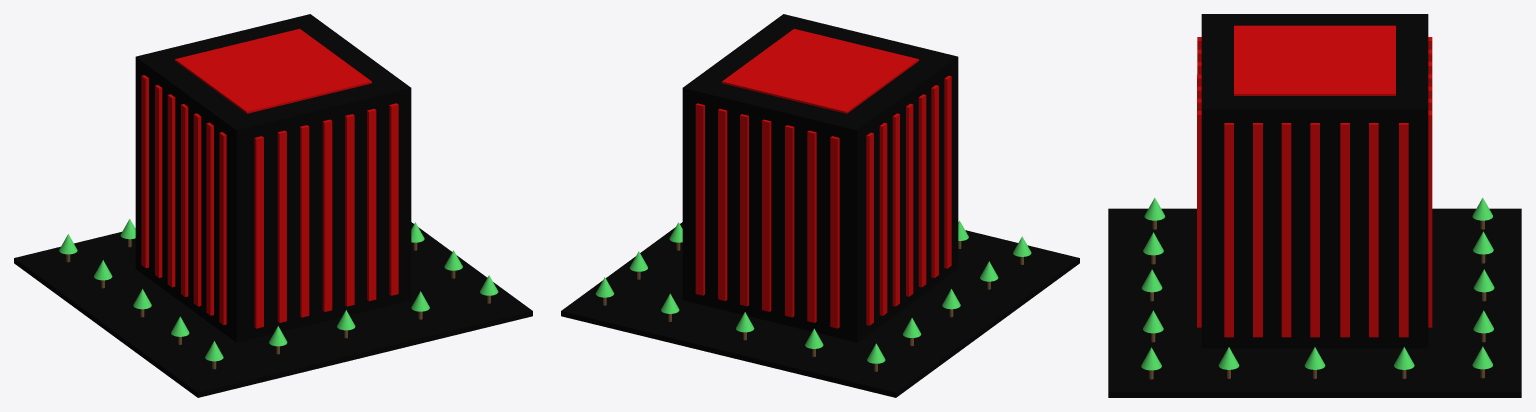
The model's file is datacenter_red.glb.
3 views of the same model, side by side, from view 1: azimuth 30°, elevation 25°; view 2: azimuth 150°, elevation 25°; view 3: azimuth 270°, elevation 25° (orthographic). The views are drawn at different scales.
Visible parts, largest first — view 1: stick.003; view 2: stick.003; view 3: stick.003.
Part boxes in pixels (<box>): stick.003: <box>14,14,532,397</box>; stick.003: <box>561,14,1079,397</box>; stick.003: <box>1108,14,1521,397</box>.
Bounding box in the file's own units: 26.83 × 16.79 × 25.52.
